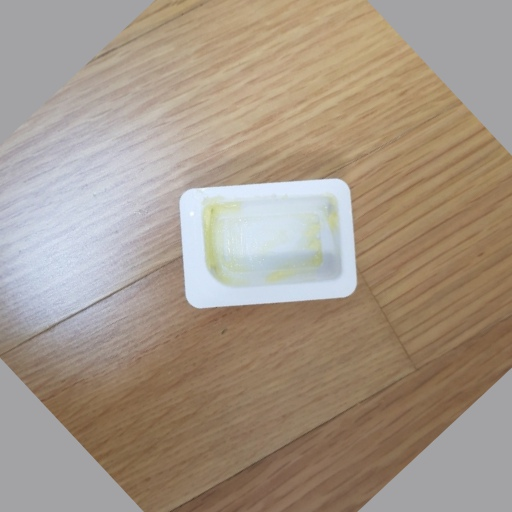Plastic_4: (176, 179, 357, 311)
